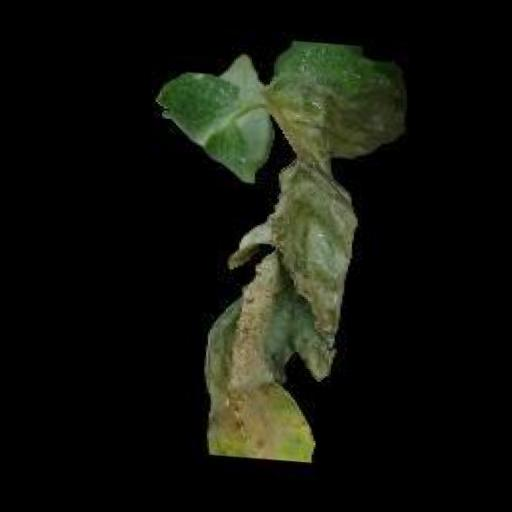Late Blight: (119, 25, 440, 473)
